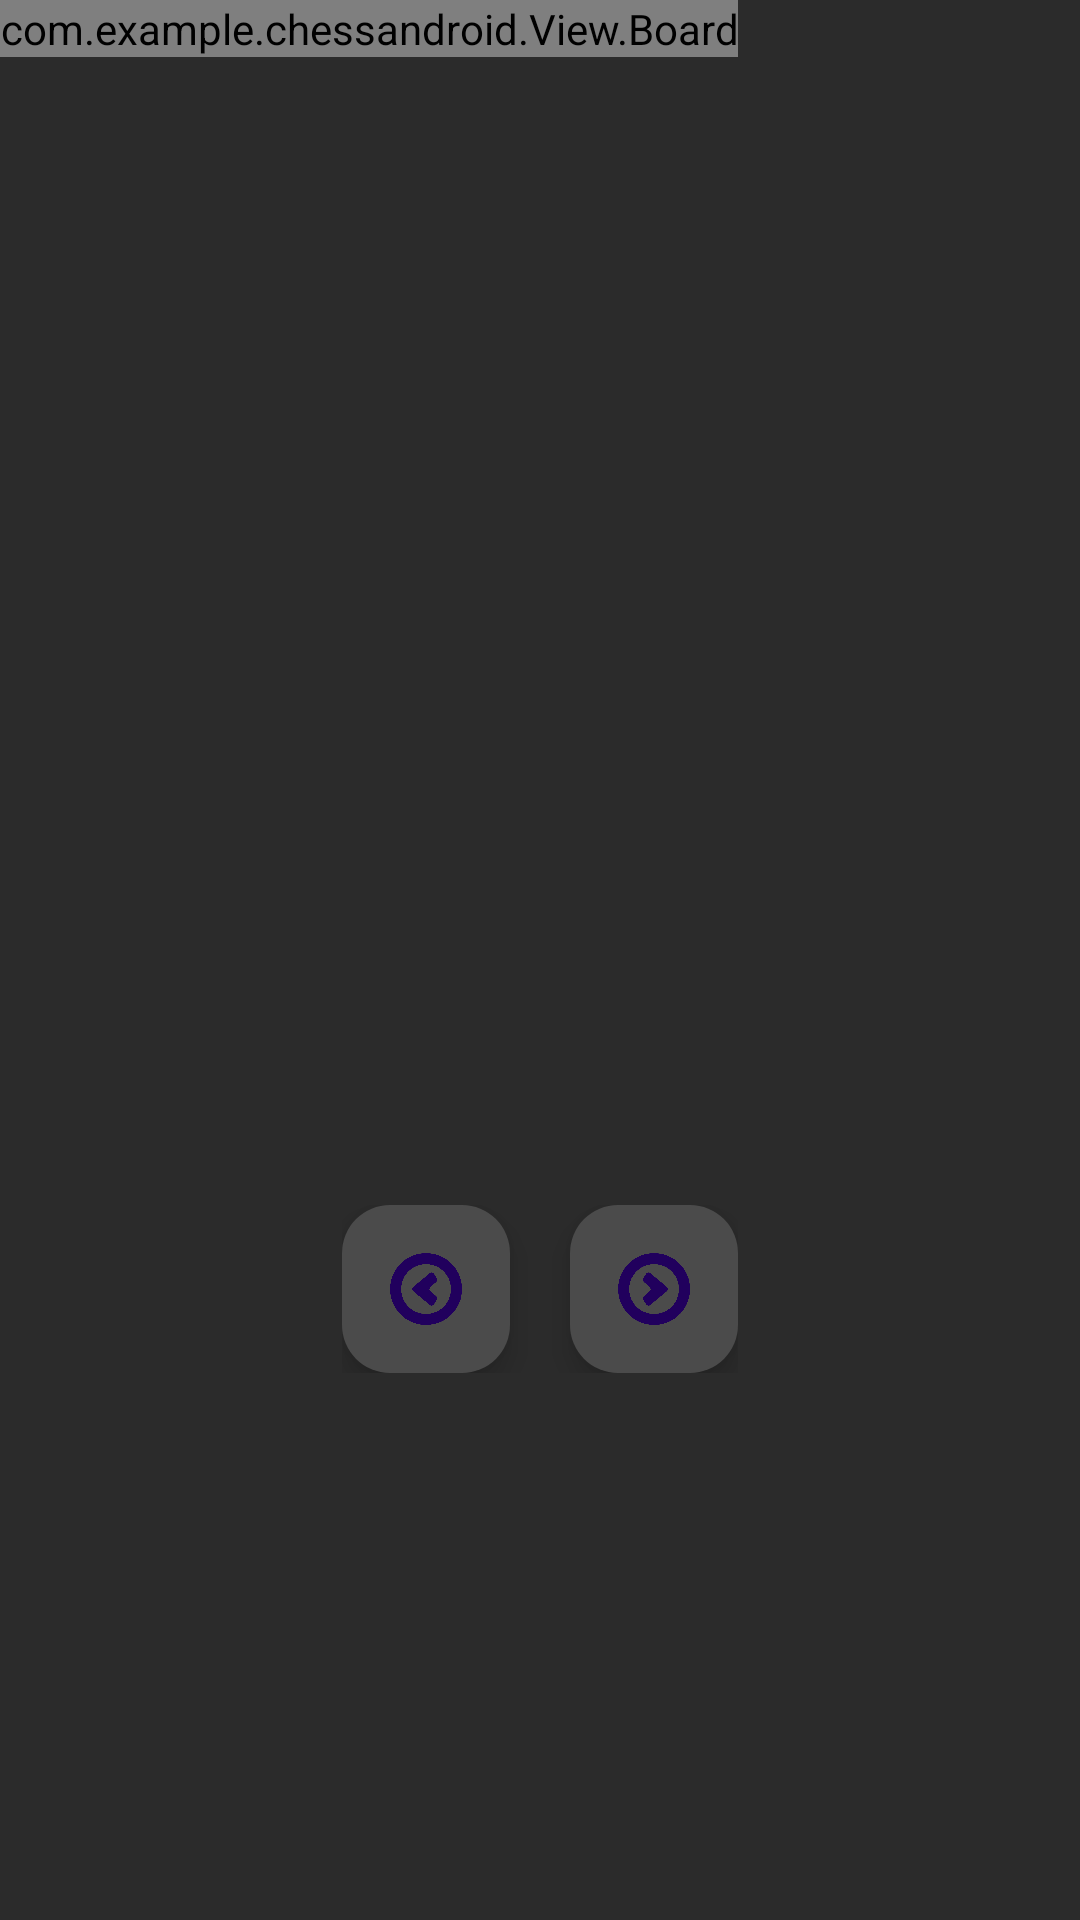

Icons on this 1080px x 1920px Android screen, each with the point to tap as [x,y]:
back: [426,1289]
forward: [654,1289]
